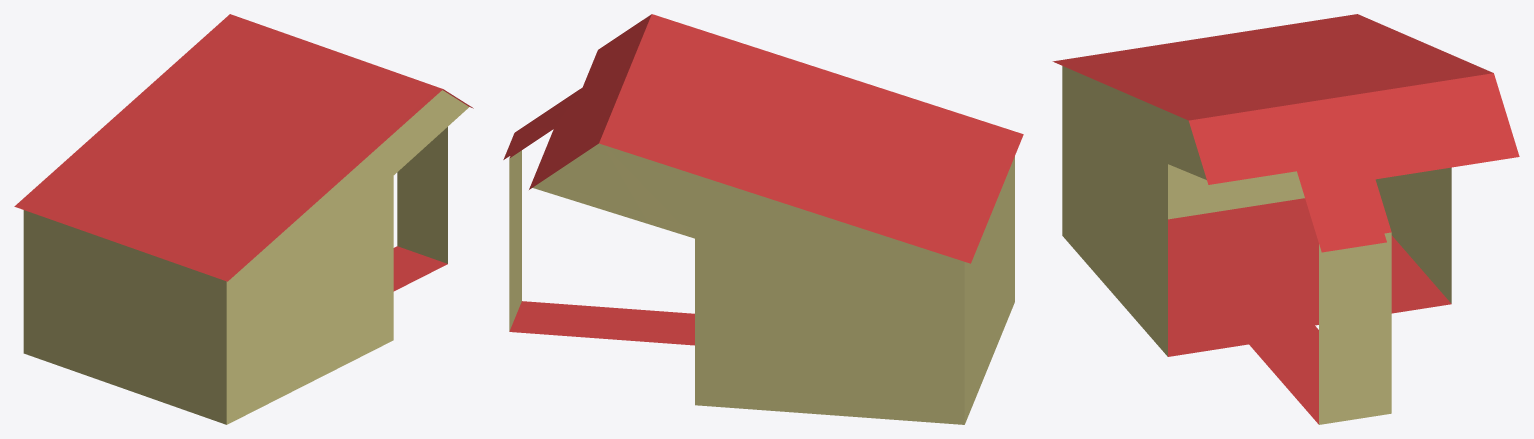
3 views of the same model, side by side, from view 1: azimuth 30°, elevation 25°; view 2: azimuth 150°, elevation 25°; view 3: azimuth 270°, elevation 25° (orthographic). The views are drawn at different scales.
Bounding box in the file's own units: 18.24 × 14.9 × 9.5.
